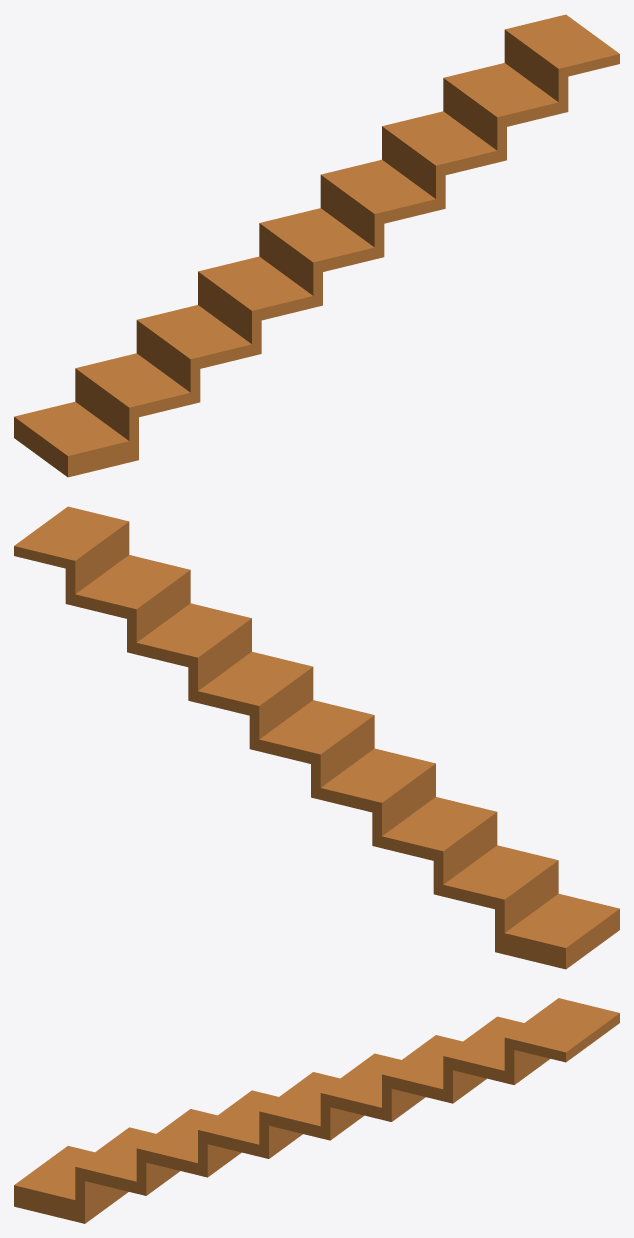
File: Scaffold_Stairs_Connected_Wood_01.FBX
3 renders of one model, top to bottom at view 1: azimuth 30°, elevation 25°; view 2: azimuth 150°, elevation 25°; view 3: azimuth 330°, elevation 25°, orthographic.
Visible parts, largest first — view 1: Scaffold_Stairs_Connected_Wood_01; view 2: Scaffold_Stairs_Connected_Wood_01; view 3: Scaffold_Stairs_Connected_Wood_01.
Boxes of the visible parts, x1,y1,x2,y2 form: Scaffold_Stairs_Connected_Wood_01: (14,14,619,477); Scaffold_Stairs_Connected_Wood_01: (14,506,619,969); Scaffold_Stairs_Connected_Wood_01: (14,998,619,1223).
Bounding box in the file's own units: 7260 × 3630 × 1229.
